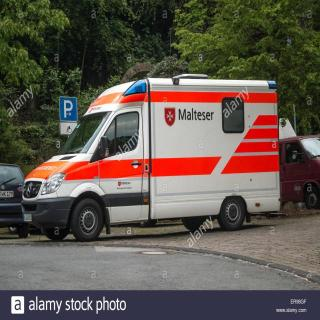Ambulance: (8, 47, 297, 272)
